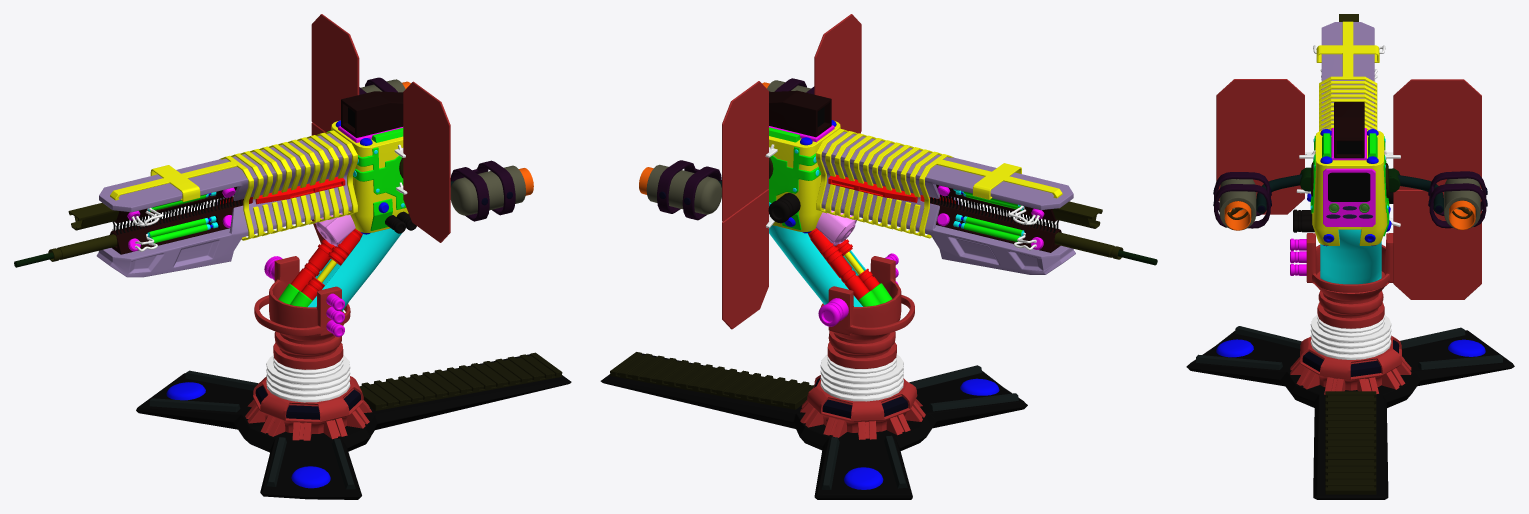
The model's file is Turrent.fbx.
The picture shows the model from 3 angles, left to right: view 1: azimuth 30°, elevation 25°; view 2: azimuth 150°, elevation 25°; view 3: azimuth 270°, elevation 25°; orthographic projection. The views are drawn at different scales.
Parts seen in each view (by area): view 1: Turrent_Head, Turrent_Locater; view 2: Turrent_Head, Turrent_Locater; view 3: Turrent_Head, Turrent_Locater.
Part boxes in pixels (box(x1,y1,x2,y2)): Turrent_Head: box(14, 14, 533, 277); Turrent_Locater: box(136, 228, 571, 499); Turrent_Head: box(639, 14, 1157, 329); Turrent_Locater: box(600, 225, 1027, 499); Turrent_Head: box(1213, 14, 1487, 299); Turrent_Locater: box(1186, 229, 1514, 499).
Size of the model in its own units: 311 by 196 by 171.
